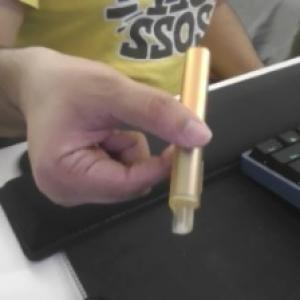Golden-E-Ciggirate: (166, 46, 214, 236)
